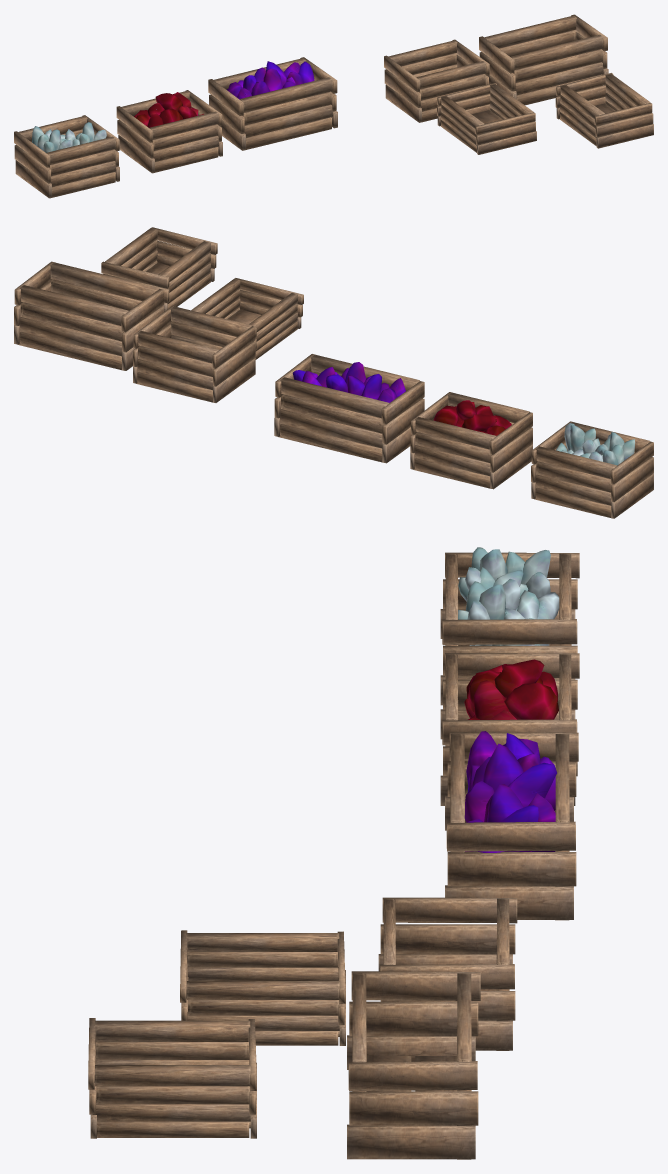
Rendered from Boxed Crystals A.fbx.
3 views of the same model, one above another, from view 1: azimuth 30°, elevation 25°; view 2: azimuth 150°, elevation 25°; view 3: azimuth 270°, elevation 25° (orthographic). The views are drawn at different scales.
Visible parts, largest first — view 1: Boxed_Crystals_1A2, Wooden_Box_1A1, Cube.038, Boxed_Crystals_1A3, Wooden_Box_1A2, Wooden_Box_1A3, Wooden_Box_1A4; view 2: Boxed_Crystals_1A2, Wooden_Box_1A1, Boxed_Crystals_1A3, Wooden_Box_1A2, Cube.038, Wooden_Box_1A3, Wooden_Box_1A4; view 3: Wooden_Box_1A1, Boxed_Crystals_1A2, Wooden_Box_1A3, Wooden_Box_1A4, Boxed_Crystals_1A3, Wooden_Box_1A2, Cube.038.
Boxes of the visible parts, <box> form: Boxed_Crystals_1A2: <box>208,57,337,150</box>; Wooden_Box_1A1: <box>479,14,608,105</box>; Cube.038: <box>116,90,222,173</box>; Boxed_Crystals_1A3: <box>14,115,119,198</box>; Wooden_Box_1A2: <box>384,39,489,122</box>; Wooden_Box_1A3: <box>555,73,653,148</box>; Wooden_Box_1A4: <box>437,83,536,154</box>; Boxed_Crystals_1A2: <box>274,354,424,463</box>; Wooden_Box_1A1: <box>14,261,164,370</box>; Boxed_Crystals_1A3: <box>531,421,653,518</box>; Wooden_Box_1A2: <box>133,305,255,402</box>; Cube.038: <box>410,392,532,489</box>; Wooden_Box_1A3: <box>101,227,217,311</box>; Wooden_Box_1A4: <box>191,278,303,359</box>; Wooden_Box_1A1: <box>347,971,480,1159</box>; Boxed_Crystals_1A2: <box>445,731,578,920</box>; Wooden_Box_1A3: <box>88,1018,256,1138</box>; Wooden_Box_1A4: <box>180,930,345,1045</box>; Boxed_Crystals_1A3: <box>440,547,579,705</box>; Wooden_Box_1A2: <box>378,897,517,1050</box>; Cube.038: <box>440,653,579,805</box>.
Size of the model in its own units: 1201 by 136 by 476.
